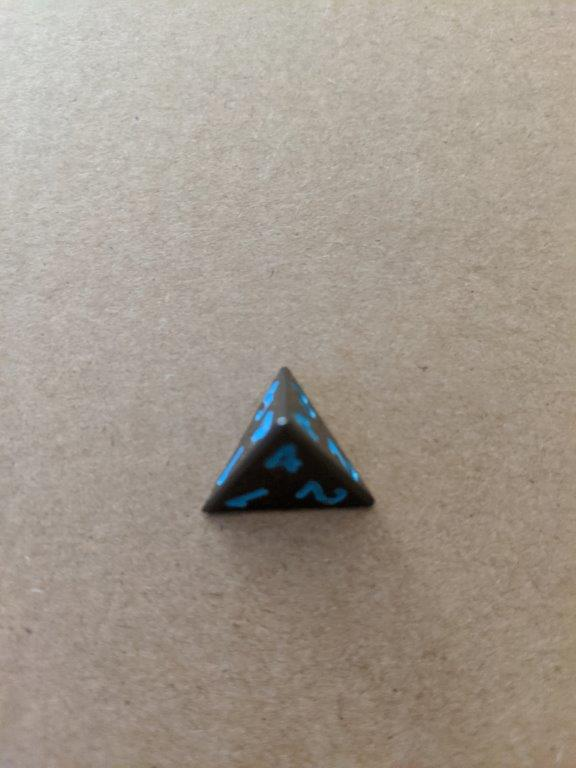d4-4: (198, 365, 379, 515)
